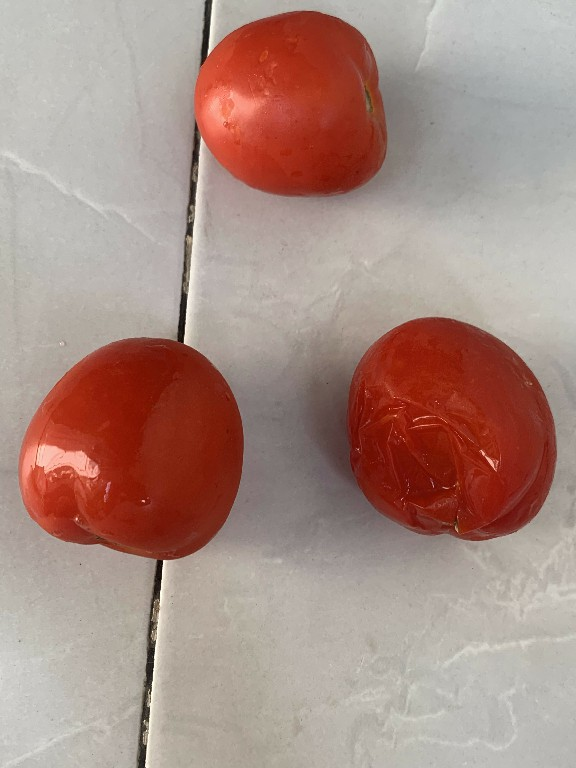NG: (330, 307, 566, 541)
OK: (17, 328, 244, 568), (175, 8, 413, 207)
